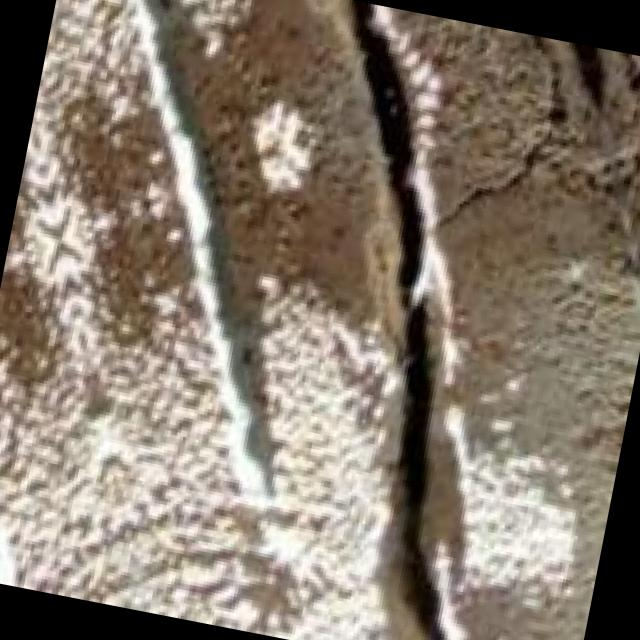crack: (142, 0, 585, 640)
